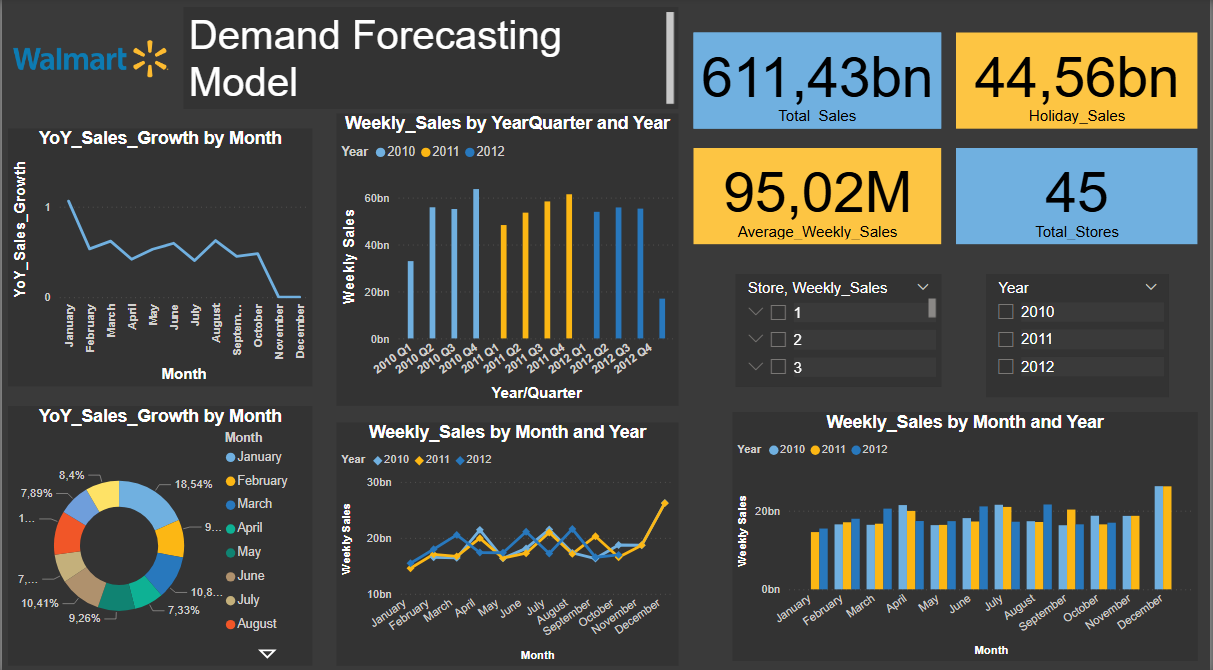

Layout of this report page (visuals, bound fields, positions):
{"tool":"powerbi","page":{"name":"Page 1","canvas":[1280,720],"ordinal":0},"visuals":[{"type":"lineChart","title":"Weekly_Sales by Month and Year","fields":{"Y":["Sum(Walmart.Weekly_Sales)"],"Category":["SalesData.Month"],"Series":["SalesData.Year"]},"box":[354.7,450.1,362.7,257.7],"z":1000},{"type":"card","fields":{"Values":["SalesData.Total_Sales"]},"box":[733.3,36.6,262.5,101.8],"z":2000},{"type":"card","fields":{"Values":["DateTable.Total_Stores"]},"box":[1011.6,159.1,256.1,101.8],"z":3000},{"type":"card","fields":{"Values":["DateTable.Average_Weekly_Sales"]},"box":[733.3,159.1,262.5,101.8],"z":4000},{"type":"card","fields":{"Values":["DateTable.Holiday_Sales"]},"box":[1011.6,36.6,256.1,101.8],"z":5000},{"type":"lineChart","fields":{"Y":["DateTable.YoY_Sales_Growth"],"Category":["DateTable.Month"]},"box":[6.4,138.4,322.9,273.6],"z":6000},{"type":"donutChart","fields":{"Y":["DateTable.YoY_Sales_Growth"],"Category":["DateTable.Month"]},"box":[6.4,432.6,322.9,275.2],"z":7000},{"type":"slicer","fields":{"Values":["SalesData.Year"]},"box":[1043.4,292.7,194.1,130.4],"z":8000},{"type":"image","box":[6.4,20.7,175,87.5],"z":9000},{"type":"slicer","fields":{"Values":["SalesData.Store","SalesData.Weekly_Sales"]},"box":[777.8,292.7,217.9,119.3],"z":10000},{"type":"clusteredColumnChart","title":"Weekly_Sales by YearQuarter and Year","fields":{"Category":["SalesData.YearQuarter"],"Y":["Sum(SalesData.Weekly_Sales)"],"Series":["SalesData.Year"]},"box":[354.7,122.5,362.7,310.2],"z":10002},{"type":"clusteredColumnChart","title":"Weekly_Sales by Month and Year","fields":{"Category":["SalesData.Month"],"Y":["Sum(SalesData.Weekly_Sales)"],"Series":["SalesData.Year"]},"box":[774.6,439,493.1,264],"z":10003},{"type":"textbox","box":[192.5,9.5,524.9,108.2],"z":10004}]}

Visuals, with their boxes in screenshot pixels (x1, y1, x2, y2), scaled from the page's 1280x720 canvas onto the 1213x670 screenshot:
"Weekly_Sales by Month and Year" lineChart: (336, 419, 680, 659)
card - SalesData.Total_Sales: (695, 34, 944, 129)
card - DateTable.Total_Stores: (959, 148, 1201, 243)
card - DateTable.Average_Weekly_Sales: (695, 148, 944, 243)
card - DateTable.Holiday_Sales: (959, 34, 1201, 129)
lineChart - DateTable.YoY_Sales_Growth x DateTable.Month: (6, 129, 312, 383)
donutChart - DateTable.YoY_Sales_Growth x DateTable.Month: (6, 403, 312, 659)
slicer - SalesData.Year: (989, 272, 1173, 394)
image: (6, 19, 172, 101)
slicer - SalesData.Store x SalesData.Weekly_Sales: (737, 272, 944, 383)
"Weekly_Sales by YearQuarter and Year" clusteredColumnChart: (336, 114, 680, 403)
"Weekly_Sales by Month and Year" clusteredColumnChart: (734, 409, 1201, 654)
textbox: (182, 9, 680, 110)
